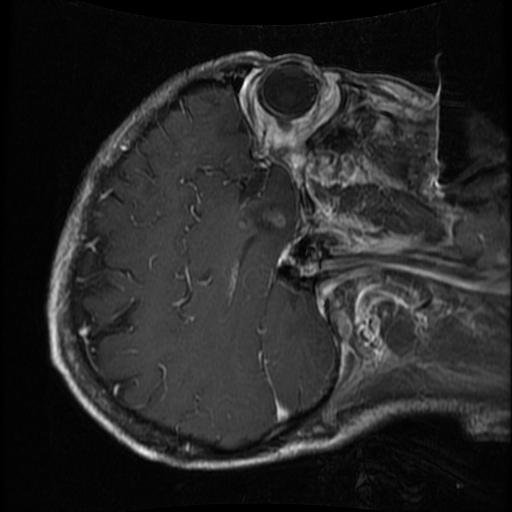glioma: (248, 204, 292, 237)
